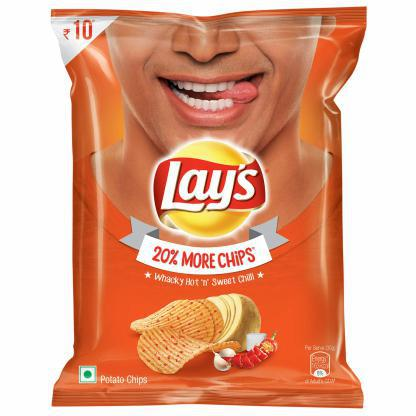hot_and_sweet: (50, 6, 368, 408)
